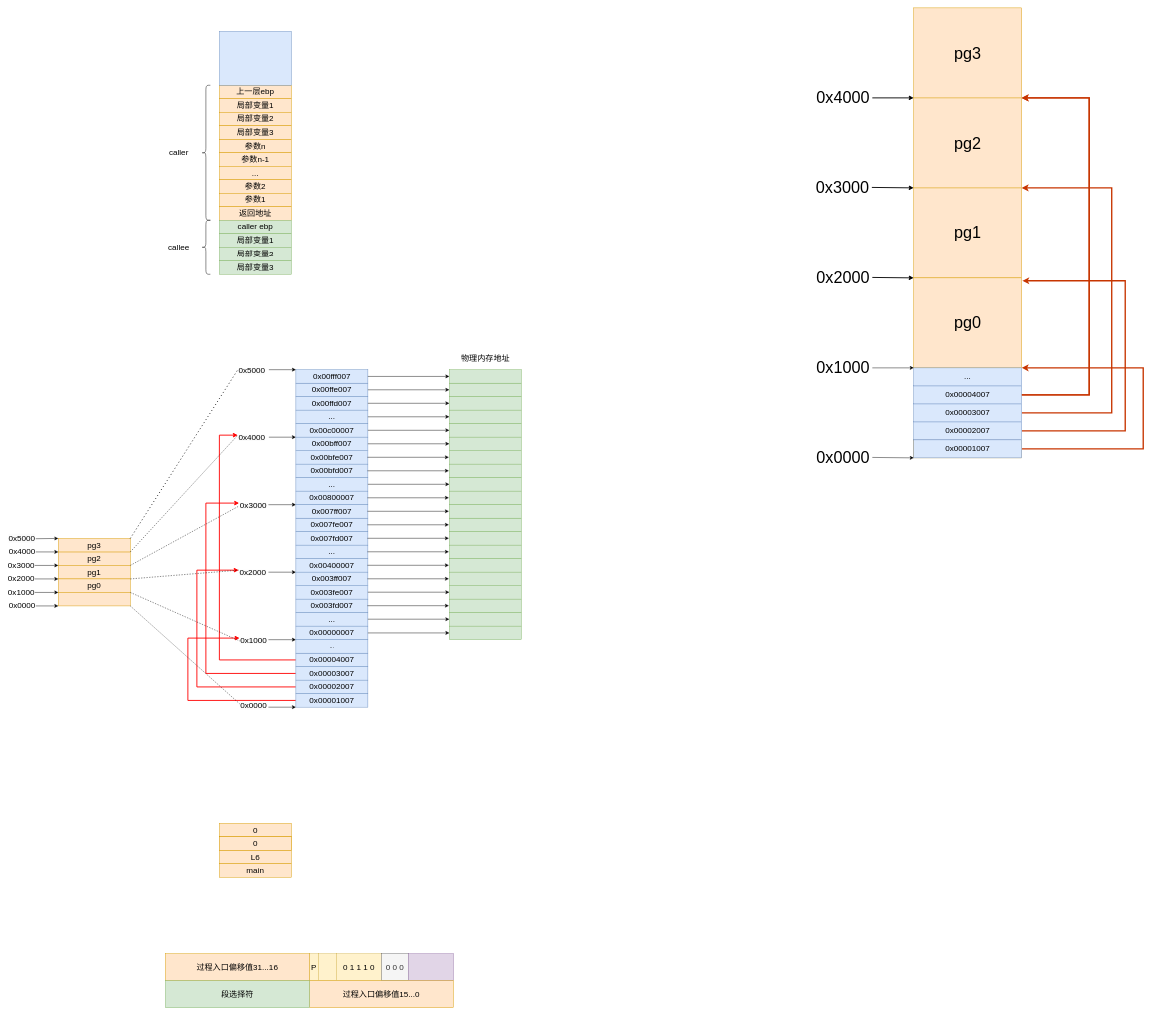
Some shapes in this 1155 by 1016 pixel diagram are drawn without their labels. The shapes that lost their labels are listed below. From the top down, each one's centre as x and y in pixels, then its label:
At point (255, 58): "上一层栈".
At point (94, 599): "page_dir".
At point (327, 967): "DPL".
